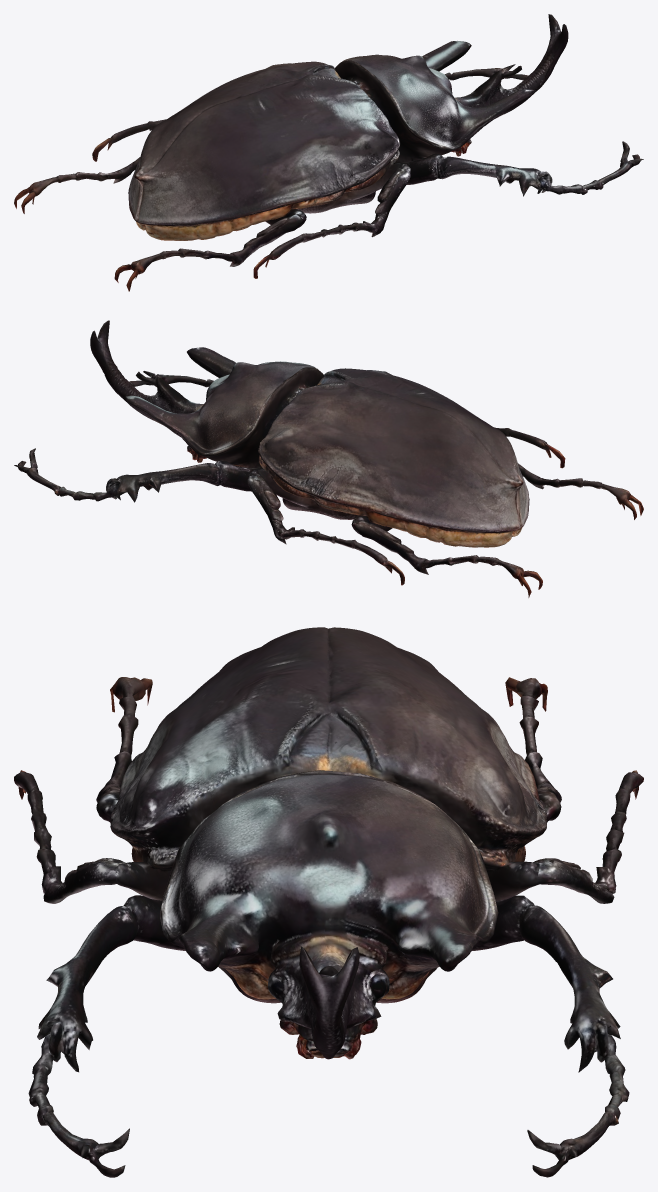
The model's file is 戰神大兜.glb.
The picture shows the model from 3 angles, top to bottom: view 1: azimuth 30°, elevation 25°; view 2: azimuth 150°, elevation 25°; view 3: azimuth 270°, elevation 25°; orthographic projection. The views are drawn at different scales.
Parts seen in each view (by area): view 1: tripo_node_fb8a8d84-7c41-4504-8e89-a6910f907c55; view 2: tripo_node_fb8a8d84-7c41-4504-8e89-a6910f907c55; view 3: tripo_node_fb8a8d84-7c41-4504-8e89-a6910f907c55.
Part boxes in pixels (<box>): tripo_node_fb8a8d84-7c41-4504-8e89-a6910f907c55: <box>14,14,643,291</box>; tripo_node_fb8a8d84-7c41-4504-8e89-a6910f907c55: <box>14,320,643,597</box>; tripo_node_fb8a8d84-7c41-4504-8e89-a6910f907c55: <box>14,627,643,1177</box>.
Bounding box in the file's own units: 0.9789 × 0.2232 × 0.5392.
Materials: 1 (1 with a texture image).
